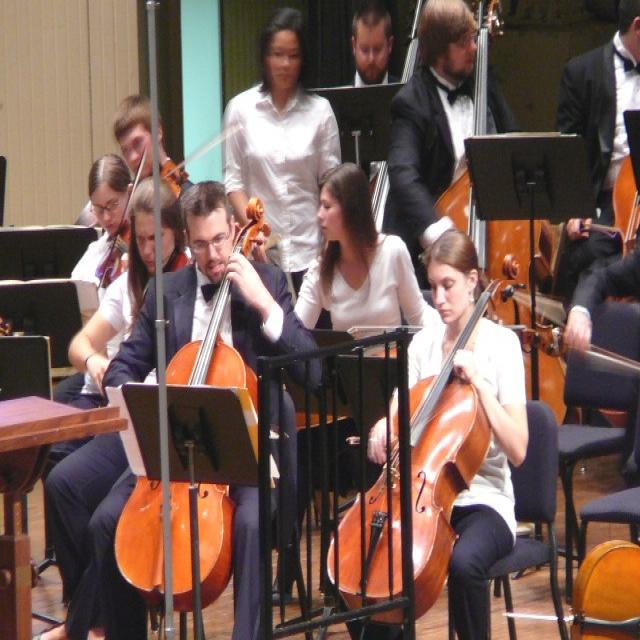cello: (328, 252, 520, 622), (112, 197, 265, 610)
violin: (95, 222, 134, 290), (160, 160, 193, 198)
